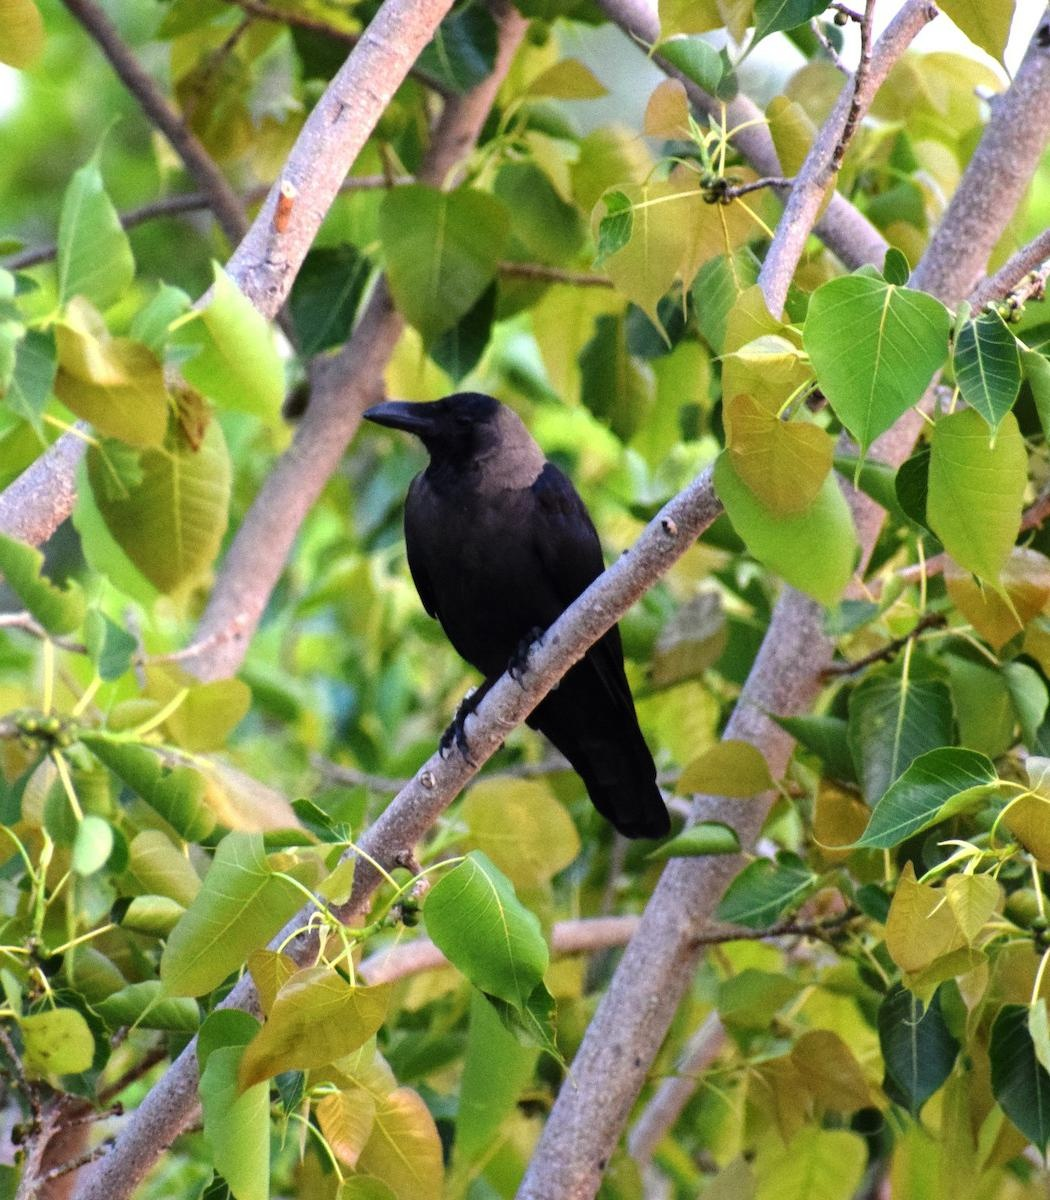crow: (347, 374, 733, 888)
